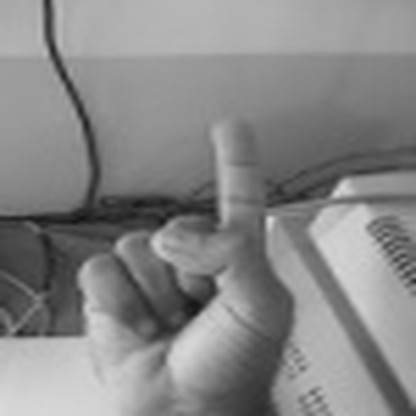d: (69, 91, 301, 416)
